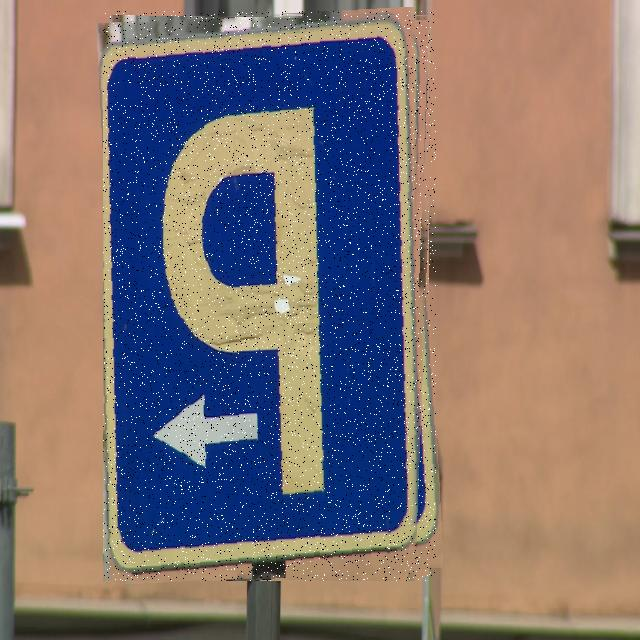parking: (103, 11, 436, 581)
